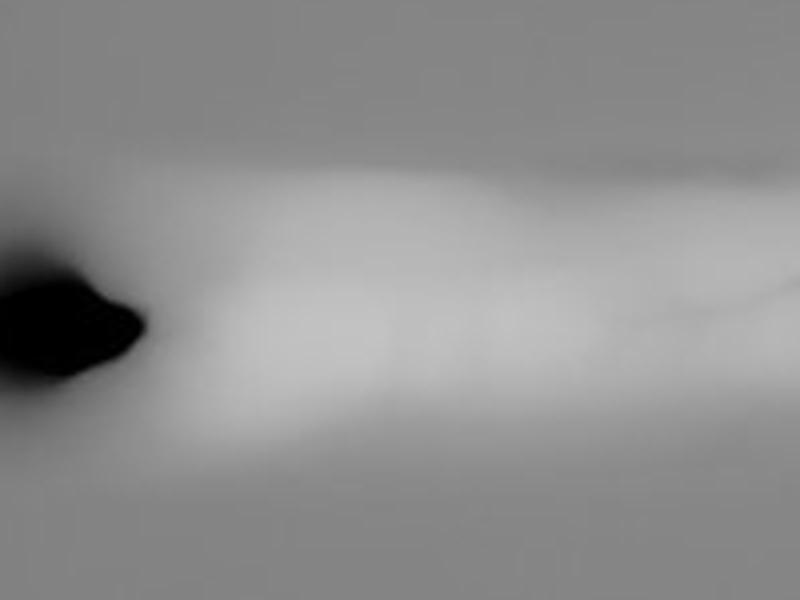defect: (4, 268, 146, 384)
